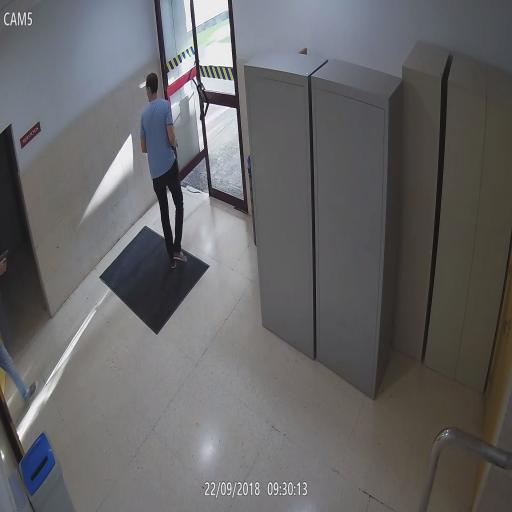Handgun: (0, 246, 11, 276)
